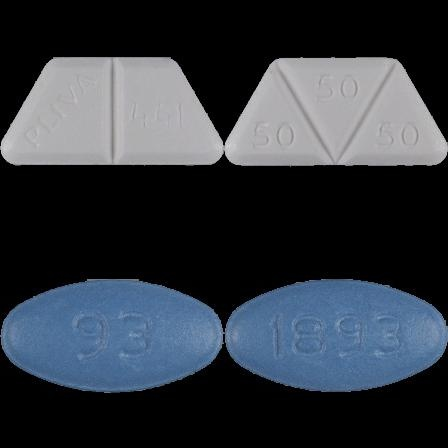68788-9341: (0, 0, 224, 224)
